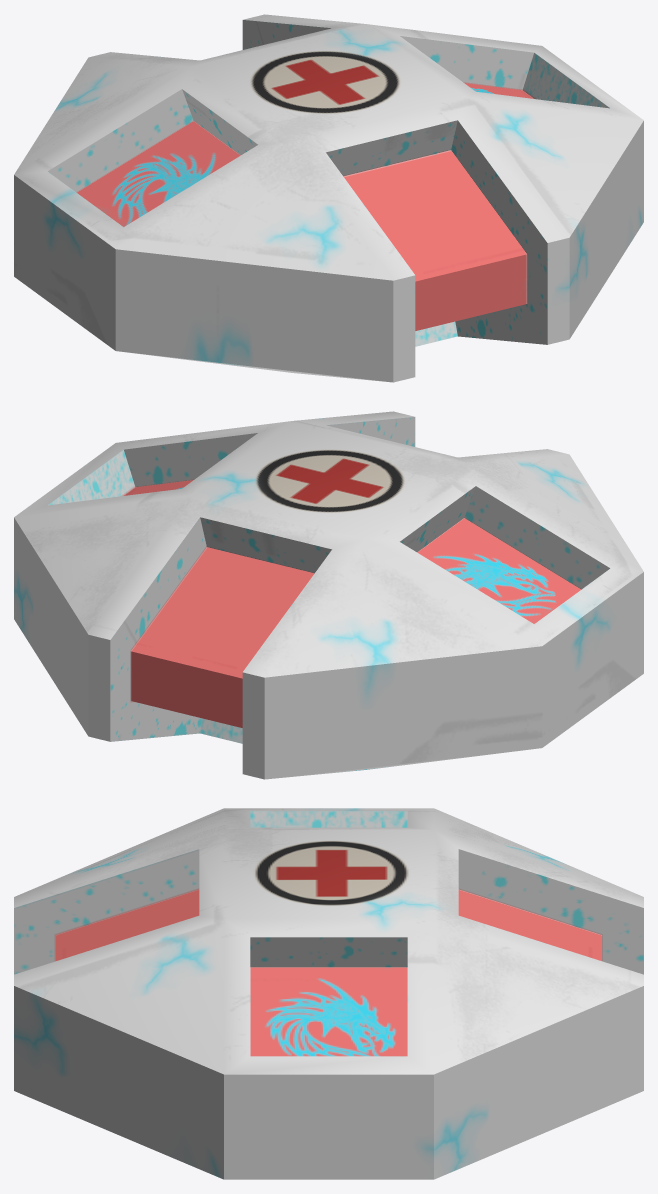
Rendered from dragon health pack.Obj.
3 views of the same model, one above another, from view 1: azimuth 30°, elevation 25°; view 2: azimuth 150°, elevation 25°; view 3: azimuth 270°, elevation 25° (orthographic). The views are drawn at different scales.
Visible parts, largest first — view 1: pCube1; view 2: pCube1; view 3: pCube1.
Boxes of the visible parts, <box> form: pCube1: <box>14,14,643,382</box>; pCube1: <box>14,411,643,779</box>; pCube1: <box>14,808,643,1179</box>.
Size of the model in its own units: 60 by 25.13 by 60.
